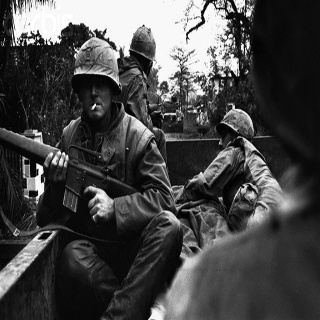rifle: (1, 125, 146, 213)
